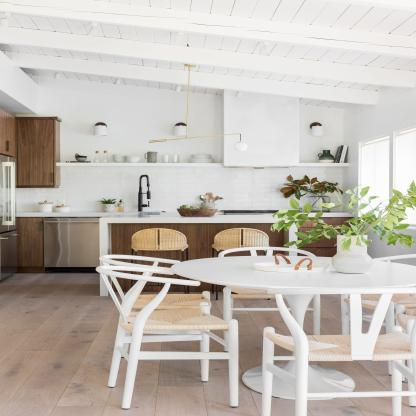chair: (97, 254, 239, 415), (122, 220, 195, 294), (212, 224, 271, 303)
light: (147, 62, 250, 155), (164, 112, 195, 140), (87, 119, 120, 139), (301, 119, 331, 139)
table: (157, 254, 416, 416)
